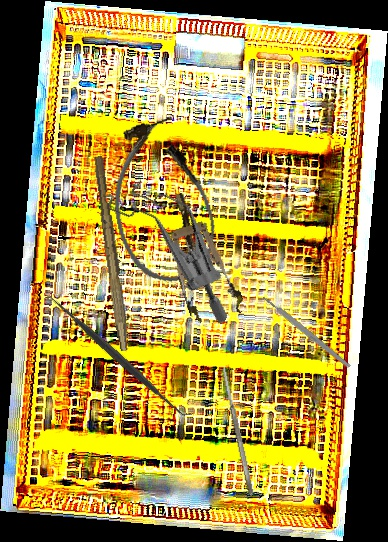Cannula: (99, 112, 224, 291)
Scalpel Handle: (89, 155, 135, 352), (261, 294, 352, 370)
Spatula Surgical: (41, 285, 195, 428), (220, 364, 255, 497)
Speculum: (75, 167, 266, 327), (153, 185, 247, 328)
